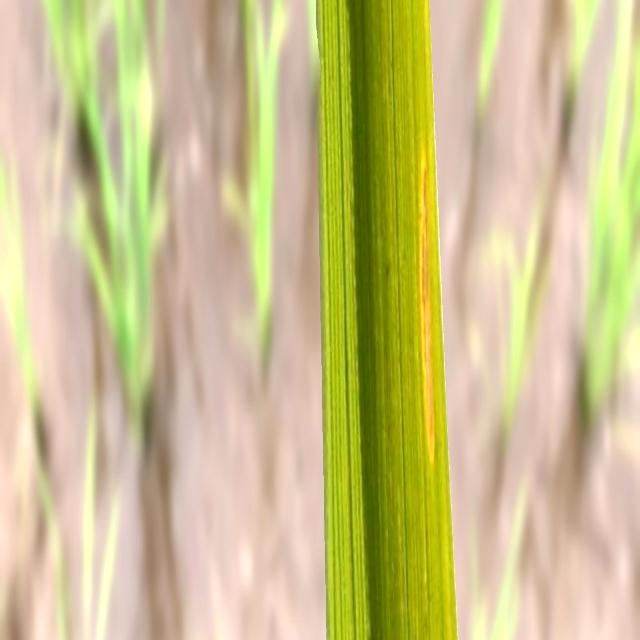BLS: (420, 156, 434, 461)
